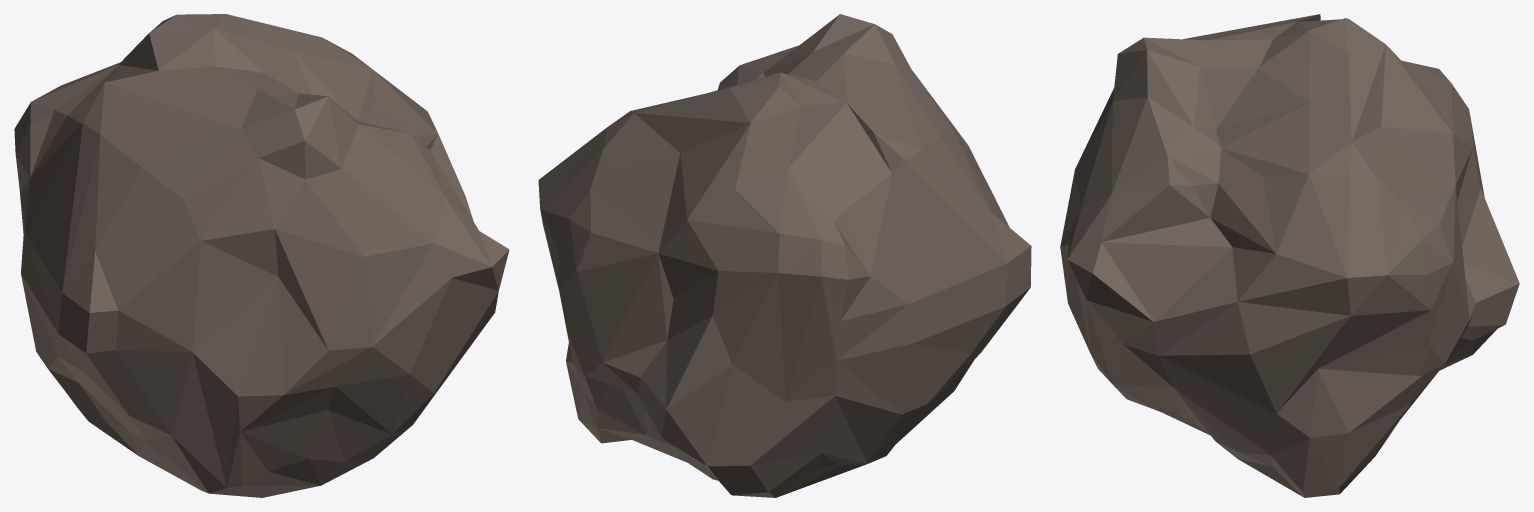
File: Asteroid7.fbx
3 views of the same model, side by side, from view 1: azimuth 30°, elevation 25°; view 2: azimuth 150°, elevation 25°; view 3: azimuth 270°, elevation 25° (orthographic). The views are drawn at different scales.
Parts seen in each view (by area): view 1: Asteroid7; view 2: Asteroid7; view 3: Asteroid7.
Part boxes in pixels (x1=…): Asteroid7: x1=14, y1=14, x2=509, y2=497; Asteroid7: x1=538, y1=14, x2=1031, y2=497; Asteroid7: x1=1060, y1=14, x2=1519, y2=497.
Bounding box in the file's own units: 65.21 × 62.64 × 65.42.
